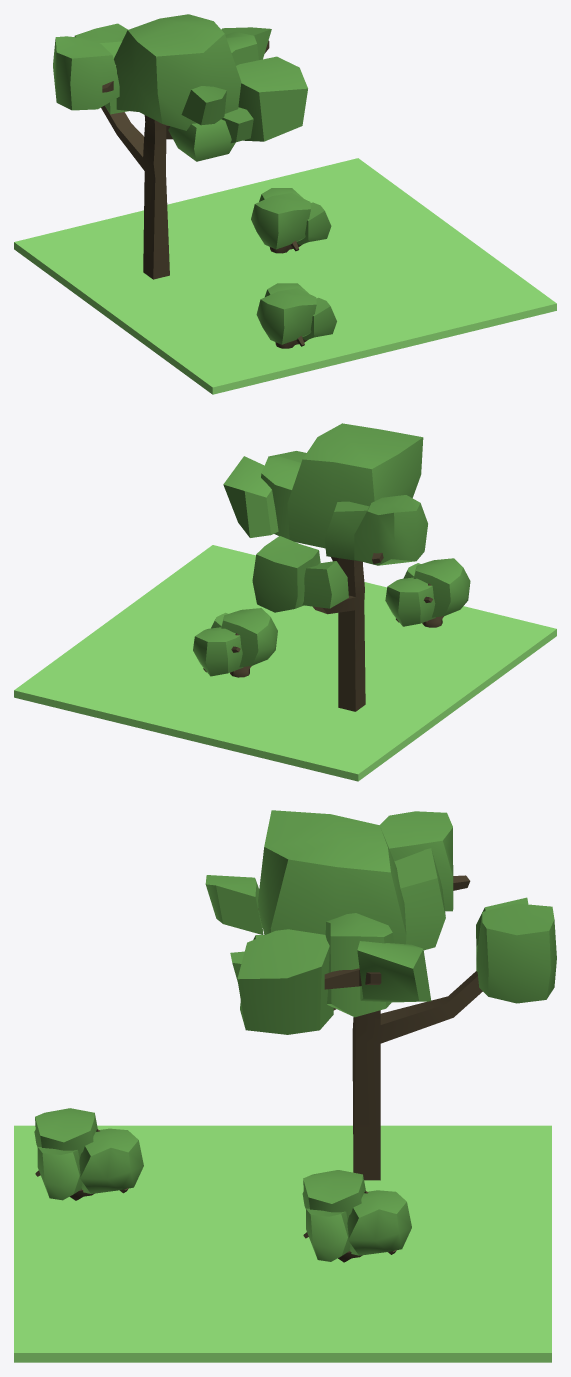
File: plants_1.glb
3 views of the same model, one above another, from view 1: azimuth 30°, elevation 25°; view 2: azimuth 150°, elevation 25°; view 3: azimuth 270°, elevation 25° (orthographic). The views are drawn at different scales.
Visible parts, largest first — view 1: plants_1; view 2: plants_1; view 3: plants_1.
Part boxes in pixels (left/top/right/bottom): plants_1: left=14, top=14, right=556, bottom=394; plants_1: left=14, top=423, right=556, bottom=781; plants_1: left=14, top=810, right=556, bottom=1362.
Size of the model in its own units: 2.05 by 1.48 by 2.02.
